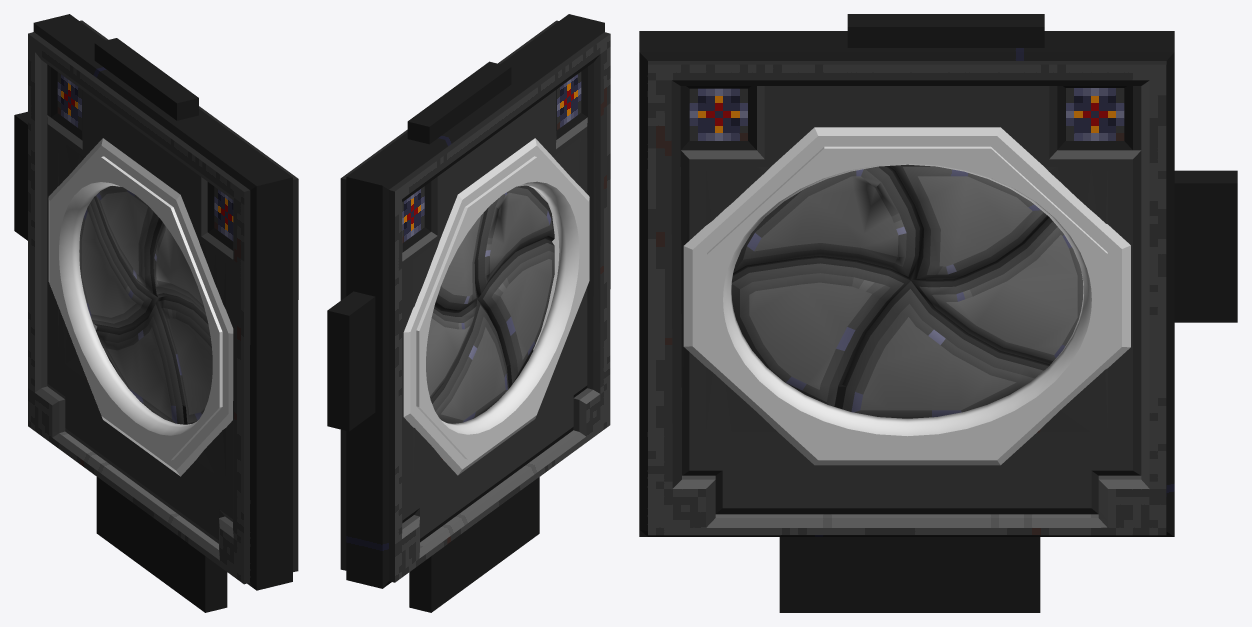
File: door5.fbx
3 views of the same model, side by side, from view 1: azimuth 30°, elevation 25°; view 2: azimuth 150°, elevation 25°; view 3: azimuth 270°, elevation 25° (orthographic). The views are drawn at different scales.
Visible parts, largest first — view 1: door_iris.frame, door5_iristrim_mesh, door_iris.007.heightcheat.lower, door_iris.006, door_iris.005, door_iris.002, door_iris.004, door_iris.003; view 2: door_iris.frame, door5_iristrim_mesh, door_iris.007.heightcheat.lower, door_iris.002, door_iris.006, door_iris.003, door_iris.005, door_iris.004; view 3: door_iris.frame, door5_iristrim_mesh, door_iris.007.heightcheat.lower, door_iris.002, door_iris.006, door_iris.005, door_iris.003, door_iris.004.
Boxes of the visible parts, <box> form: door_iris.frame: <box>14,14,298,612</box>; door5_iristrim_mesh: <box>48,138,233,476</box>; door_iris.007.heightcheat.lower: <box>80,378,197,543</box>; door_iris.006: <box>96,298,185,424</box>; door_iris.005: <box>80,196,158,330</box>; door_iris.002: <box>158,296,212,424</box>; door_iris.004: <box>96,186,162,296</box>; door_iris.003: <box>153,222,206,316</box>; door_iris.frame: <box>327,14,610,612</box>; door5_iristrim_mesh: <box>403,138,589,475</box>; door_iris.007.heightcheat.lower: <box>438,384,555,543</box>; door_iris.002: <box>477,238,554,384</box>; door_iris.006: <box>430,299,508,423</box>; door_iris.003: <box>474,185,554,297</box>; door_iris.005: <box>426,300,476,399</box>; door_iris.004: <box>434,212,484,312</box>; door_iris.frame: <box>639,14,1237,612</box>; door5_iristrim_mesh: <box>683,127,1130,465</box>; door_iris.007.heightcheat.lower: <box>780,429,1040,536</box>; door_iris.002: <box>731,258,910,406</box>; door_iris.006: <box>842,281,1048,418</box>; door_iris.005: <box>911,217,1083,366</box>; door_iris.003: <box>733,166,919,280</box>; door_iris.004: <box>886,164,1049,281</box>.
Size of the model in its own units: 36 by 309 by 286.
